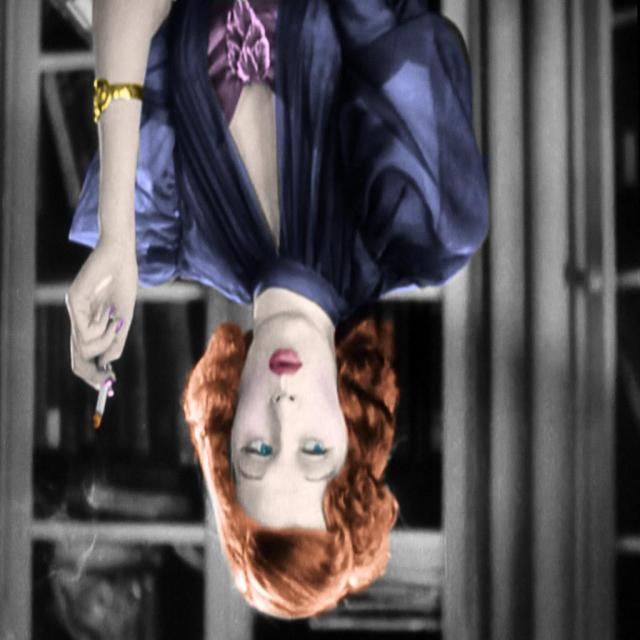cigarette: (78, 357, 118, 448)
